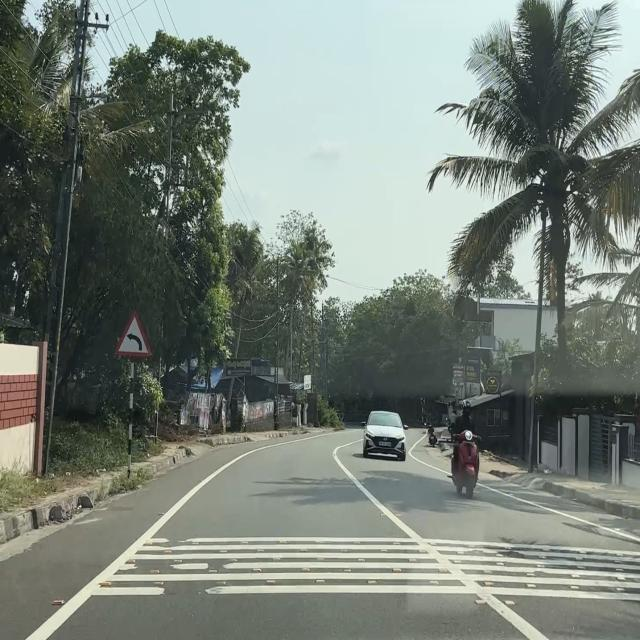LEFT_TURN_AHEAD: (114, 308, 154, 358)
